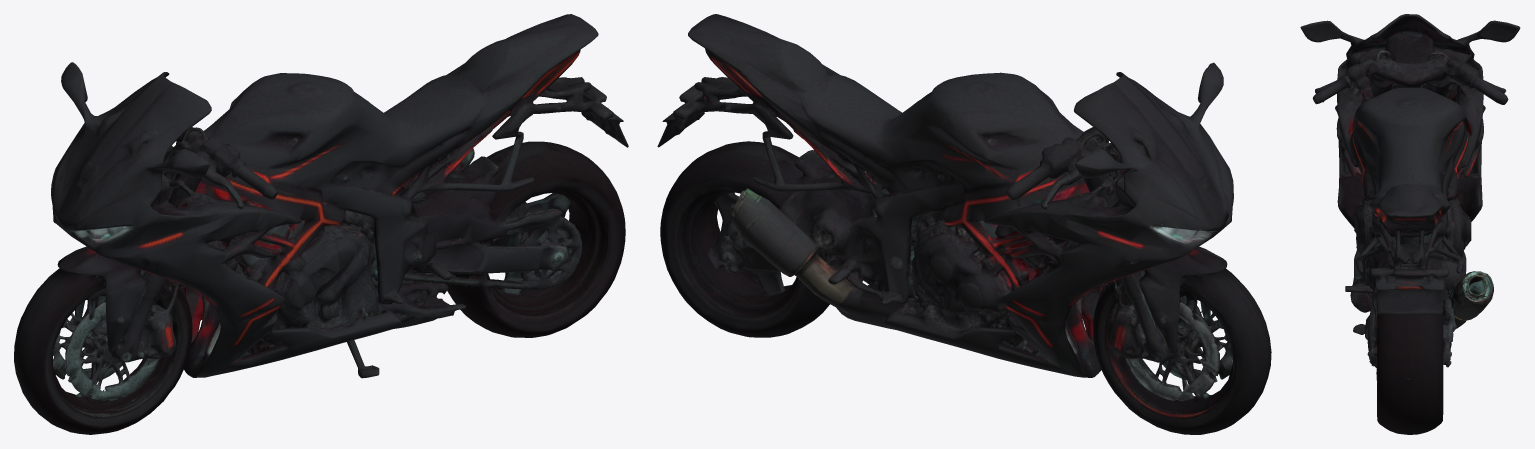
File: bike.glb
The picture shows the model from 3 angles, left to right: view 1: azimuth 30°, elevation 25°; view 2: azimuth 150°, elevation 25°; view 3: azimuth 270°, elevation 25°; orthographic projection. The views are drawn at different scales.
Visible parts, largest first — view 1: Mesh_0; view 2: Mesh_0; view 3: Mesh_0.
Part boxes in pixels (<box>): Mesh_0: <box>14,14,628,434</box>; Mesh_0: <box>657,14,1271,434</box>; Mesh_0: <box>1300,14,1520,434</box>.
Size of the model in its own units: 1.9 by 1.04 by 0.7612.
1 material, 1 textured.
